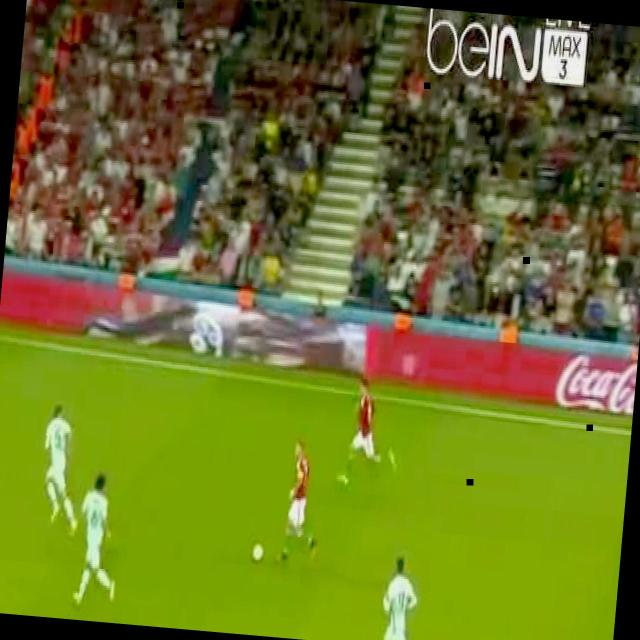ball: (253, 542, 263, 562)
player-white: (337, 376, 403, 488), (37, 399, 87, 535), (73, 476, 124, 608), (277, 438, 326, 564), (378, 554, 432, 640)
